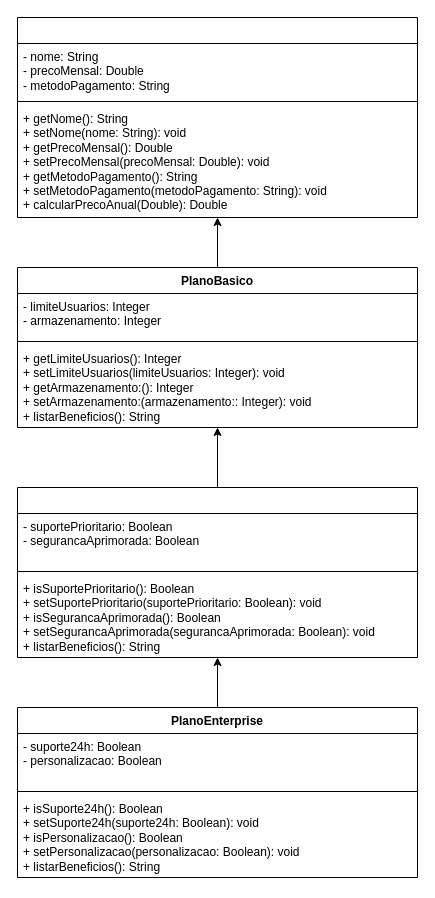
This 435x898 diagram has some shape labels left out. The shapes that lost their labels are listed below. From the top down, each one's box as (x1, y1, x2, y2) in pixels, then its label:
(16, 16, 418, 218): PlanoAssinatura
(16, 486, 418, 658): PlanoPremium
